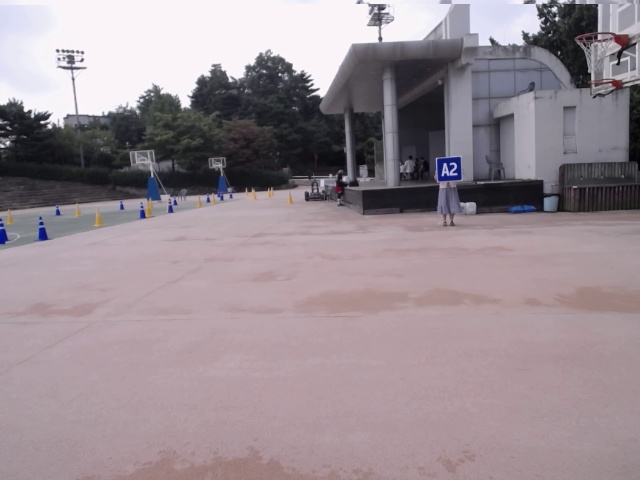delivery_a2: (436, 156, 462, 182)
